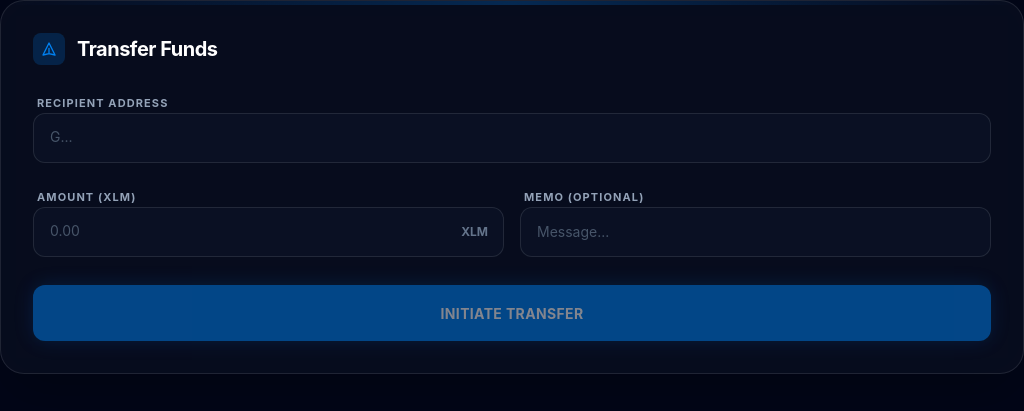
Scenario: SendForm › shows validation error for invalid address
This screenshot has width=1024, height=411.
In the field named "recipient": (512, 138) [33,113,991,163], type "GBBAD"
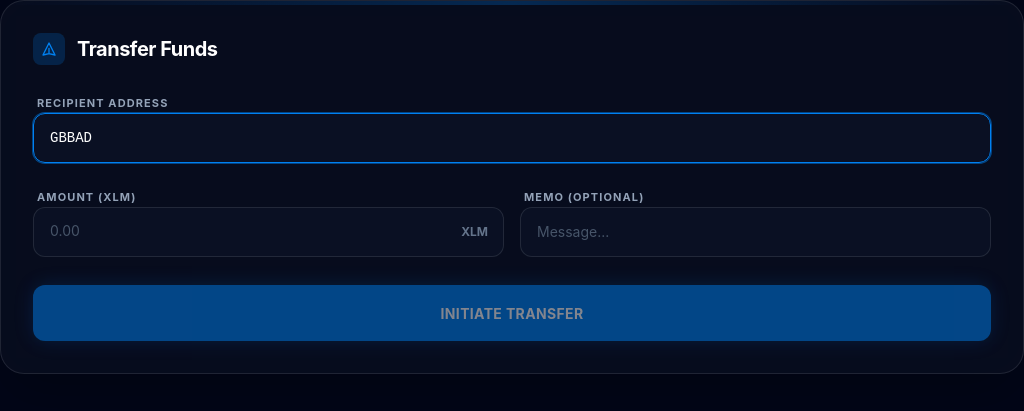
In the number field named "amount": (268, 232) [33,207,504,257], type "10"
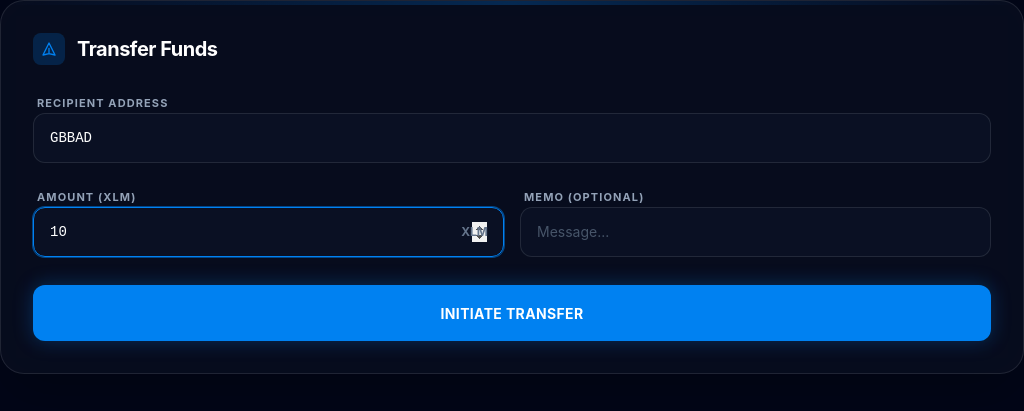
Submit the form labelled "Recipient", box [33,89,991,341]
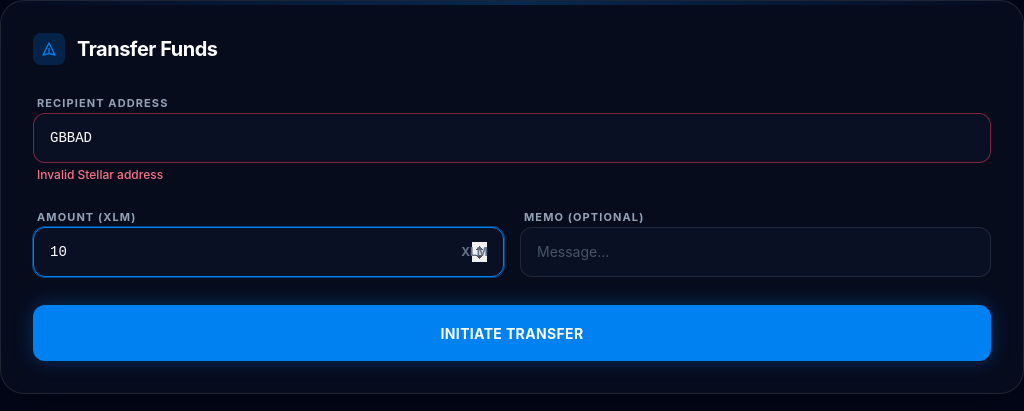
Now the text "Invalid Stellar address" is shown, box [37,167,163,182]
